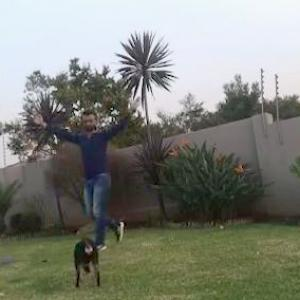takeoff: (30, 77, 133, 262)
